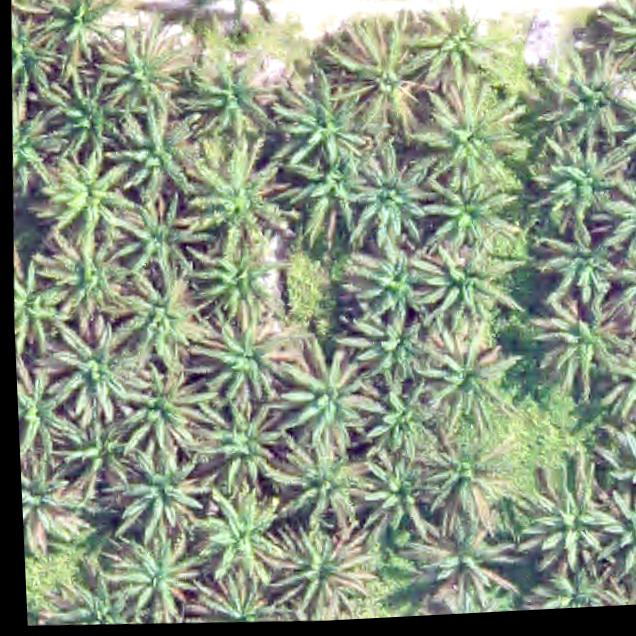oilpalm: (316, 7, 458, 146), (274, 136, 381, 247), (527, 290, 636, 396), (270, 433, 378, 537), (517, 474, 626, 576), (414, 86, 517, 190), (336, 146, 435, 254), (531, 130, 636, 230), (274, 352, 374, 454), (185, 150, 283, 254), (269, 525, 372, 623), (38, 147, 137, 248), (178, 47, 277, 148), (109, 447, 210, 544), (533, 214, 634, 310), (192, 313, 290, 410), (541, 52, 636, 152), (418, 436, 511, 537), (111, 188, 206, 285), (110, 101, 202, 201), (190, 236, 286, 331), (416, 163, 513, 257), (413, 522, 510, 616), (422, 330, 515, 425), (195, 491, 285, 587), (48, 323, 137, 420), (114, 365, 205, 458), (111, 274, 201, 364), (416, 240, 505, 330), (201, 401, 286, 495), (353, 445, 437, 540), (42, 74, 129, 164), (280, 85, 370, 170), (350, 300, 439, 385), (358, 375, 443, 464), (343, 242, 432, 324), (25, 0, 118, 75), (112, 534, 196, 614), (44, 240, 126, 320), (98, 28, 174, 113), (20, 445, 77, 554), (66, 411, 141, 485)
